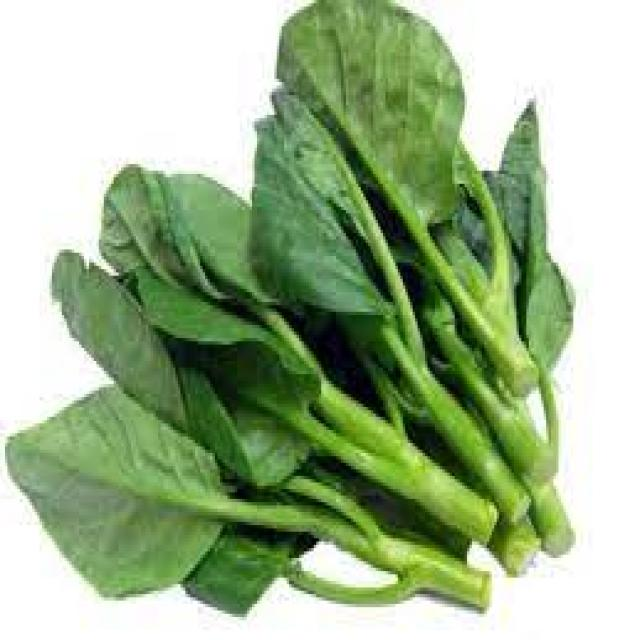collard: (5, 0, 576, 627)
